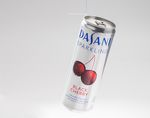blackcherry: (71, 53, 100, 96)
